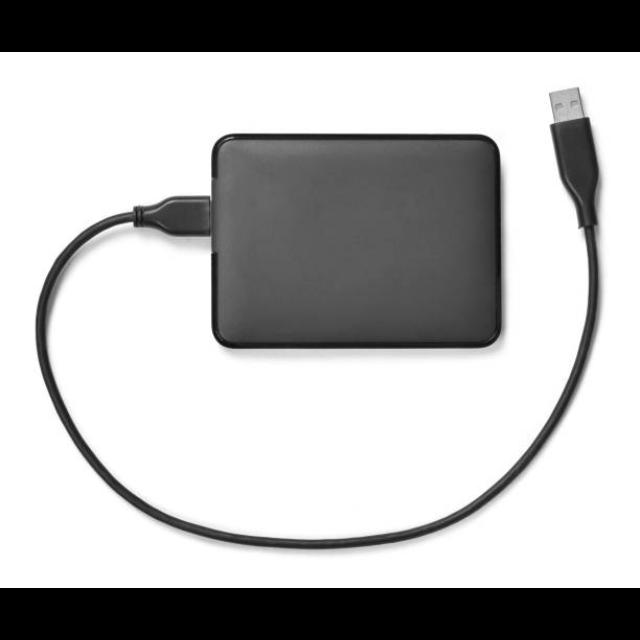HDD: (206, 133, 506, 353)
